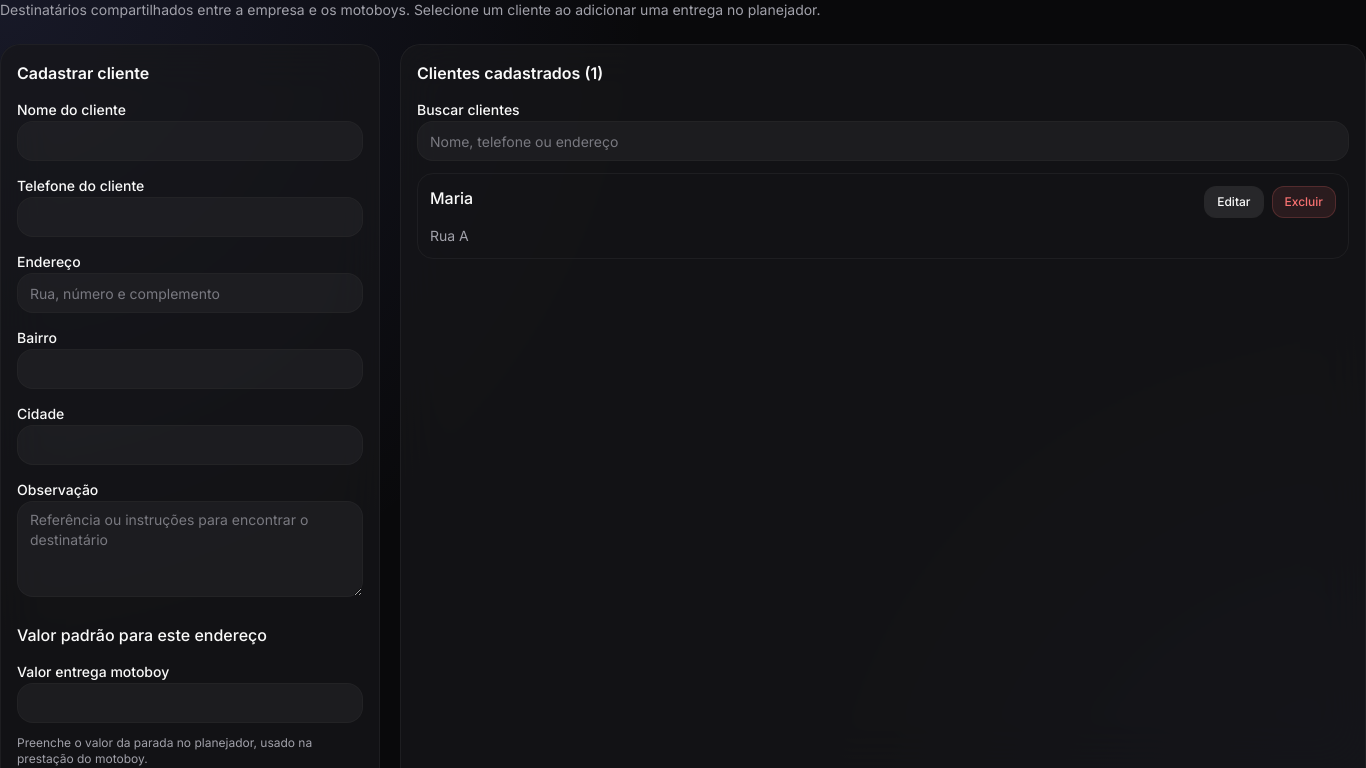
it: exclusão de cliente › exige confirmação e remove o cliente da lista após sucesso
Click the button "Excluir". click: (1304, 202)
box: [1272, 186, 1336, 218]
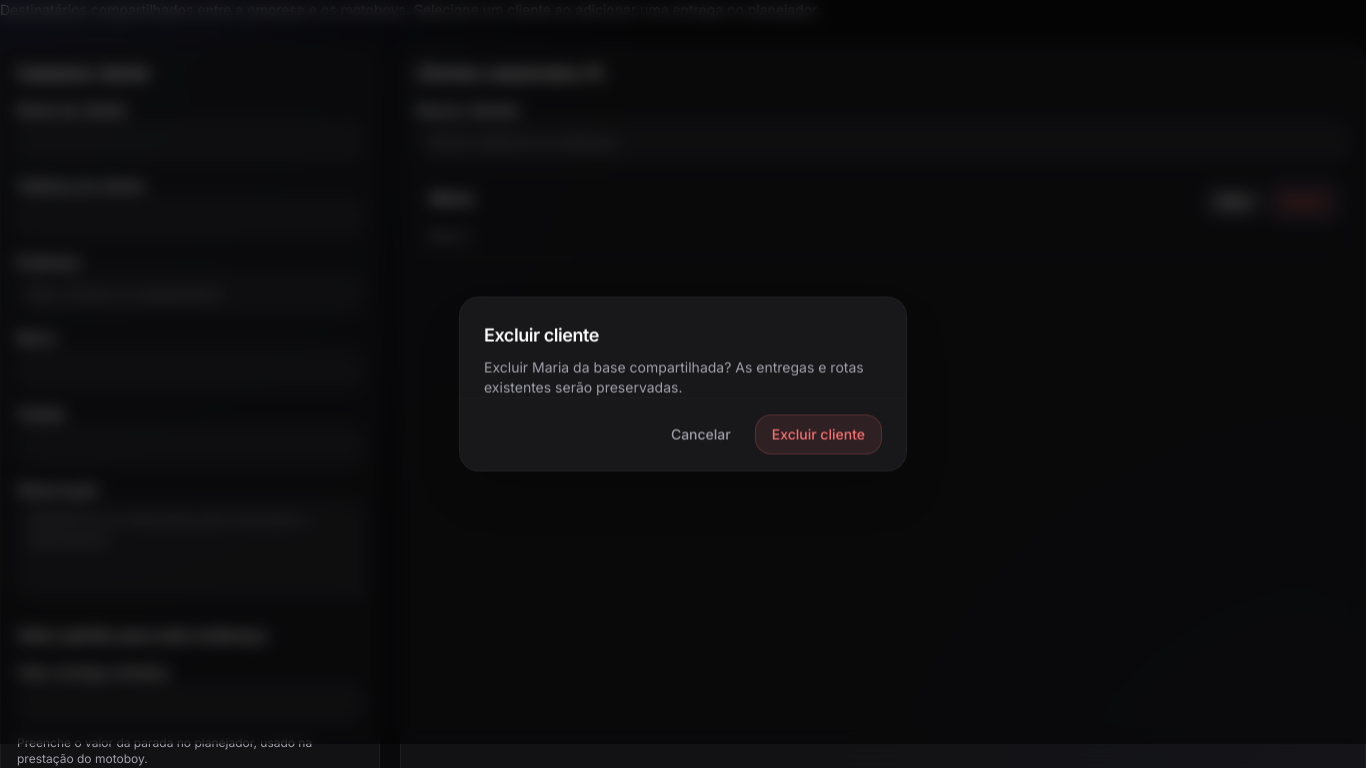
Expected: the text "entregas e rotas existentes serão preservadas" is shown, [484, 358, 864, 396]
Click the button "Excluir cliente". click: (818, 434)
box: [755, 414, 882, 454]
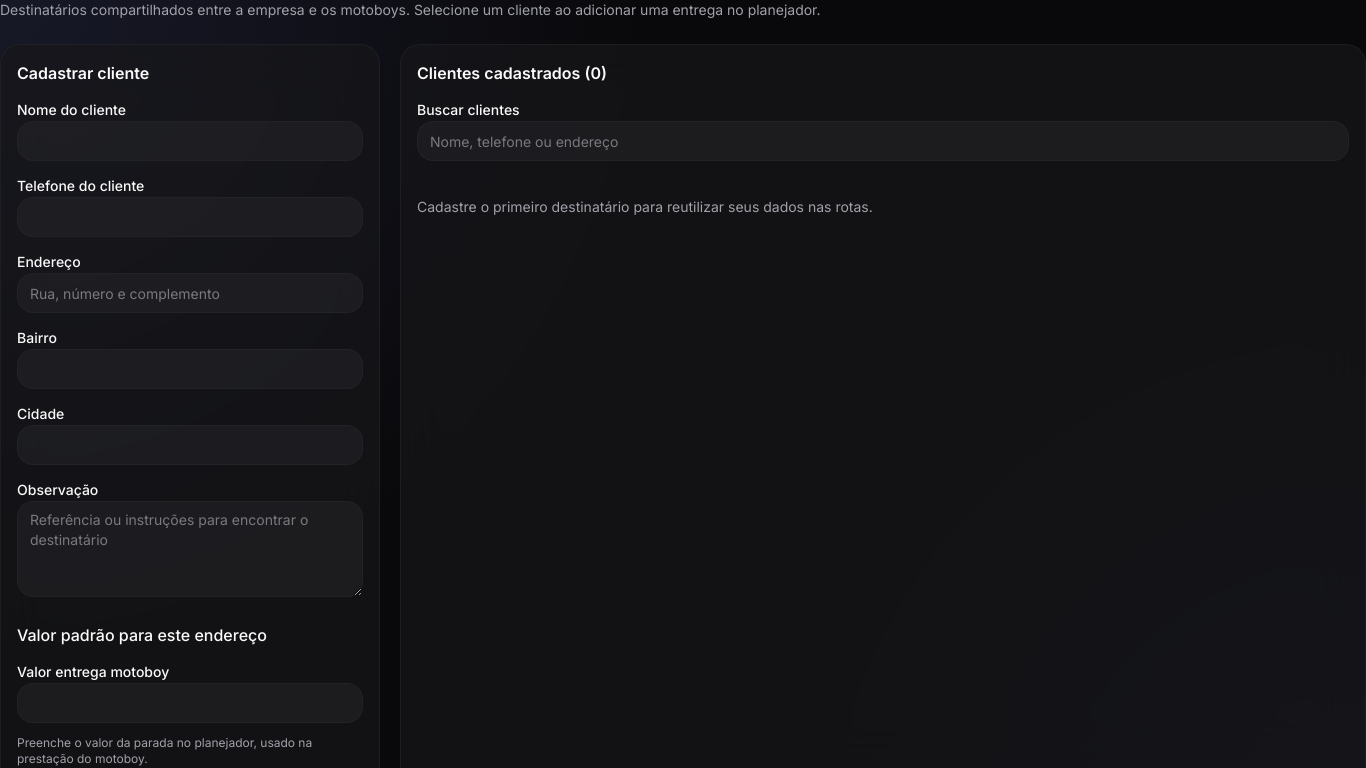
Expected: the heading "Maria" is gone
